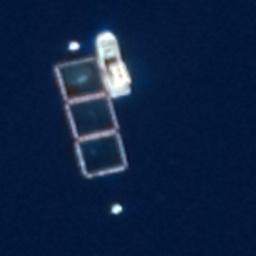square_solid: (51, 53, 119, 108), (70, 127, 135, 181), (61, 90, 124, 145)
